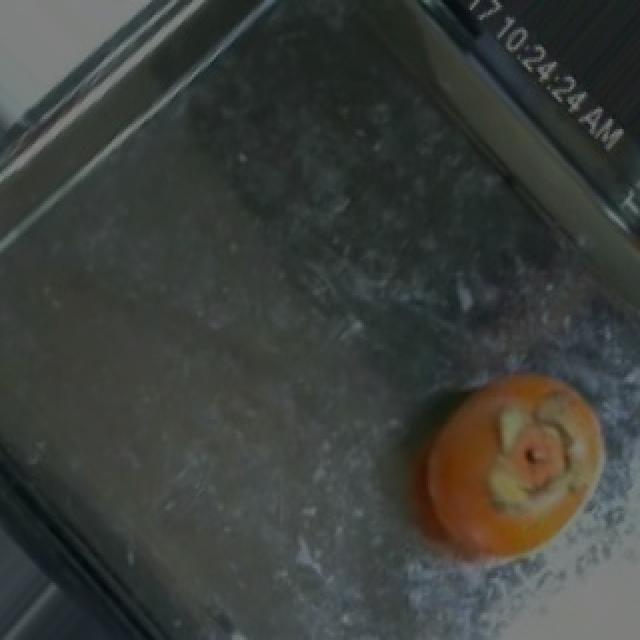Fruit: (390, 355, 624, 590)
